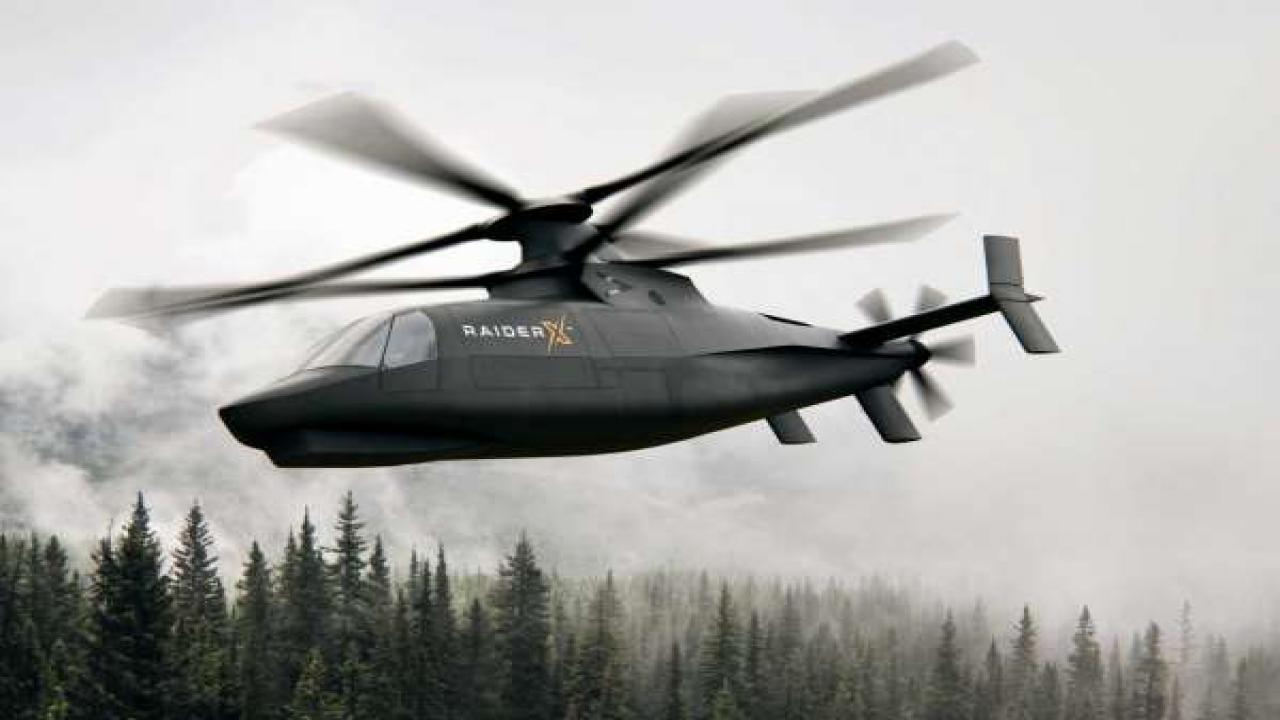Helicopter: (77, 27, 1099, 507)
